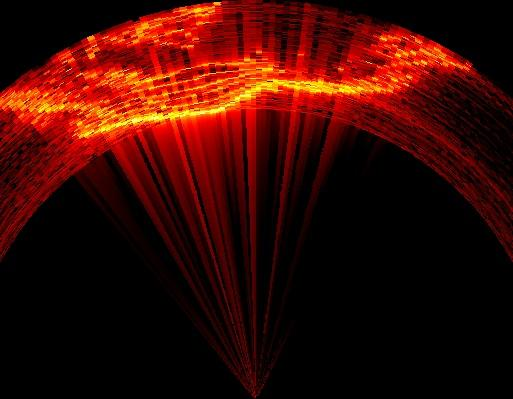shipwreck: (72, 26, 472, 137), (88, 0, 220, 57), (0, 83, 84, 126)
